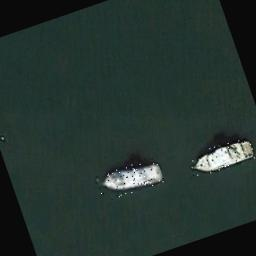boat: (95, 156, 164, 202), (186, 134, 256, 178)
